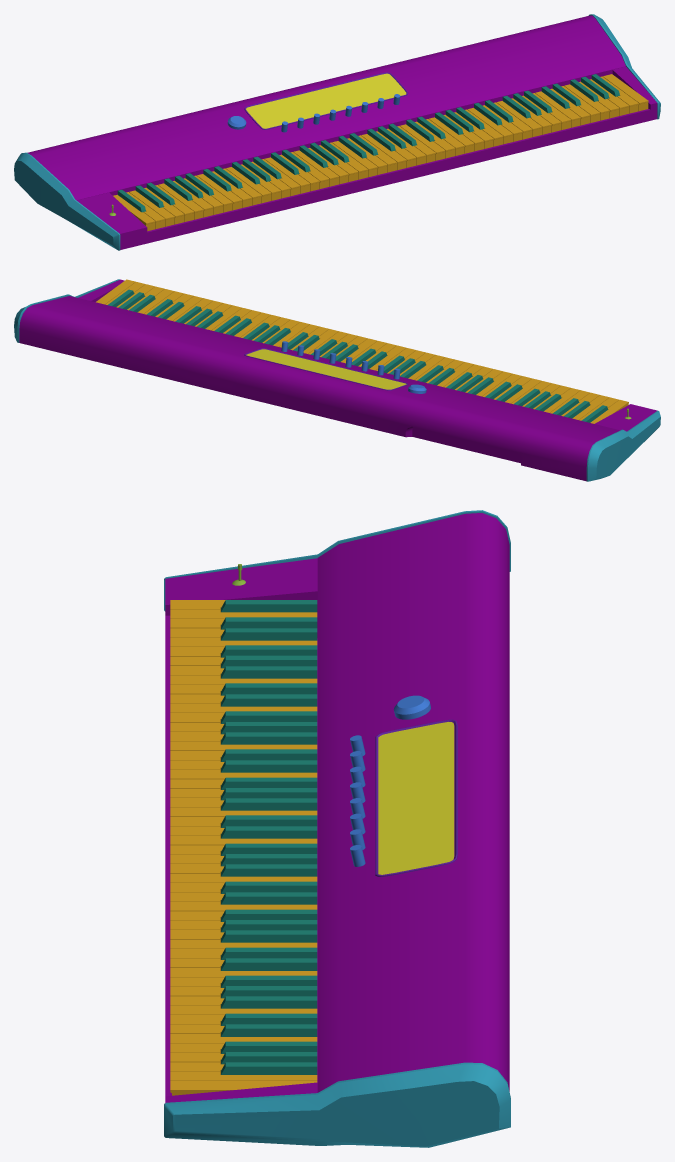
The model's file is Teclado_fbx.fbx.
3 views of the same model, one above another, from view 1: azimuth 30°, elevation 25°; view 2: azimuth 150°, elevation 25°; view 3: azimuth 270°, elevation 25° (orthographic). The views are drawn at different scales.
Visible parts, largest first — view 1: Piano texturisado; view 2: Piano texturisado; view 3: Piano texturisado.
Part boxes in pixels (<box>): Piano texturisado: <box>14,14,660,250</box>; Piano texturisado: <box>14,279,660,481</box>; Piano texturisado: <box>164,510,510,1147</box>.
Size of the model in its own units: 133 by 9.73 by 34.26.
